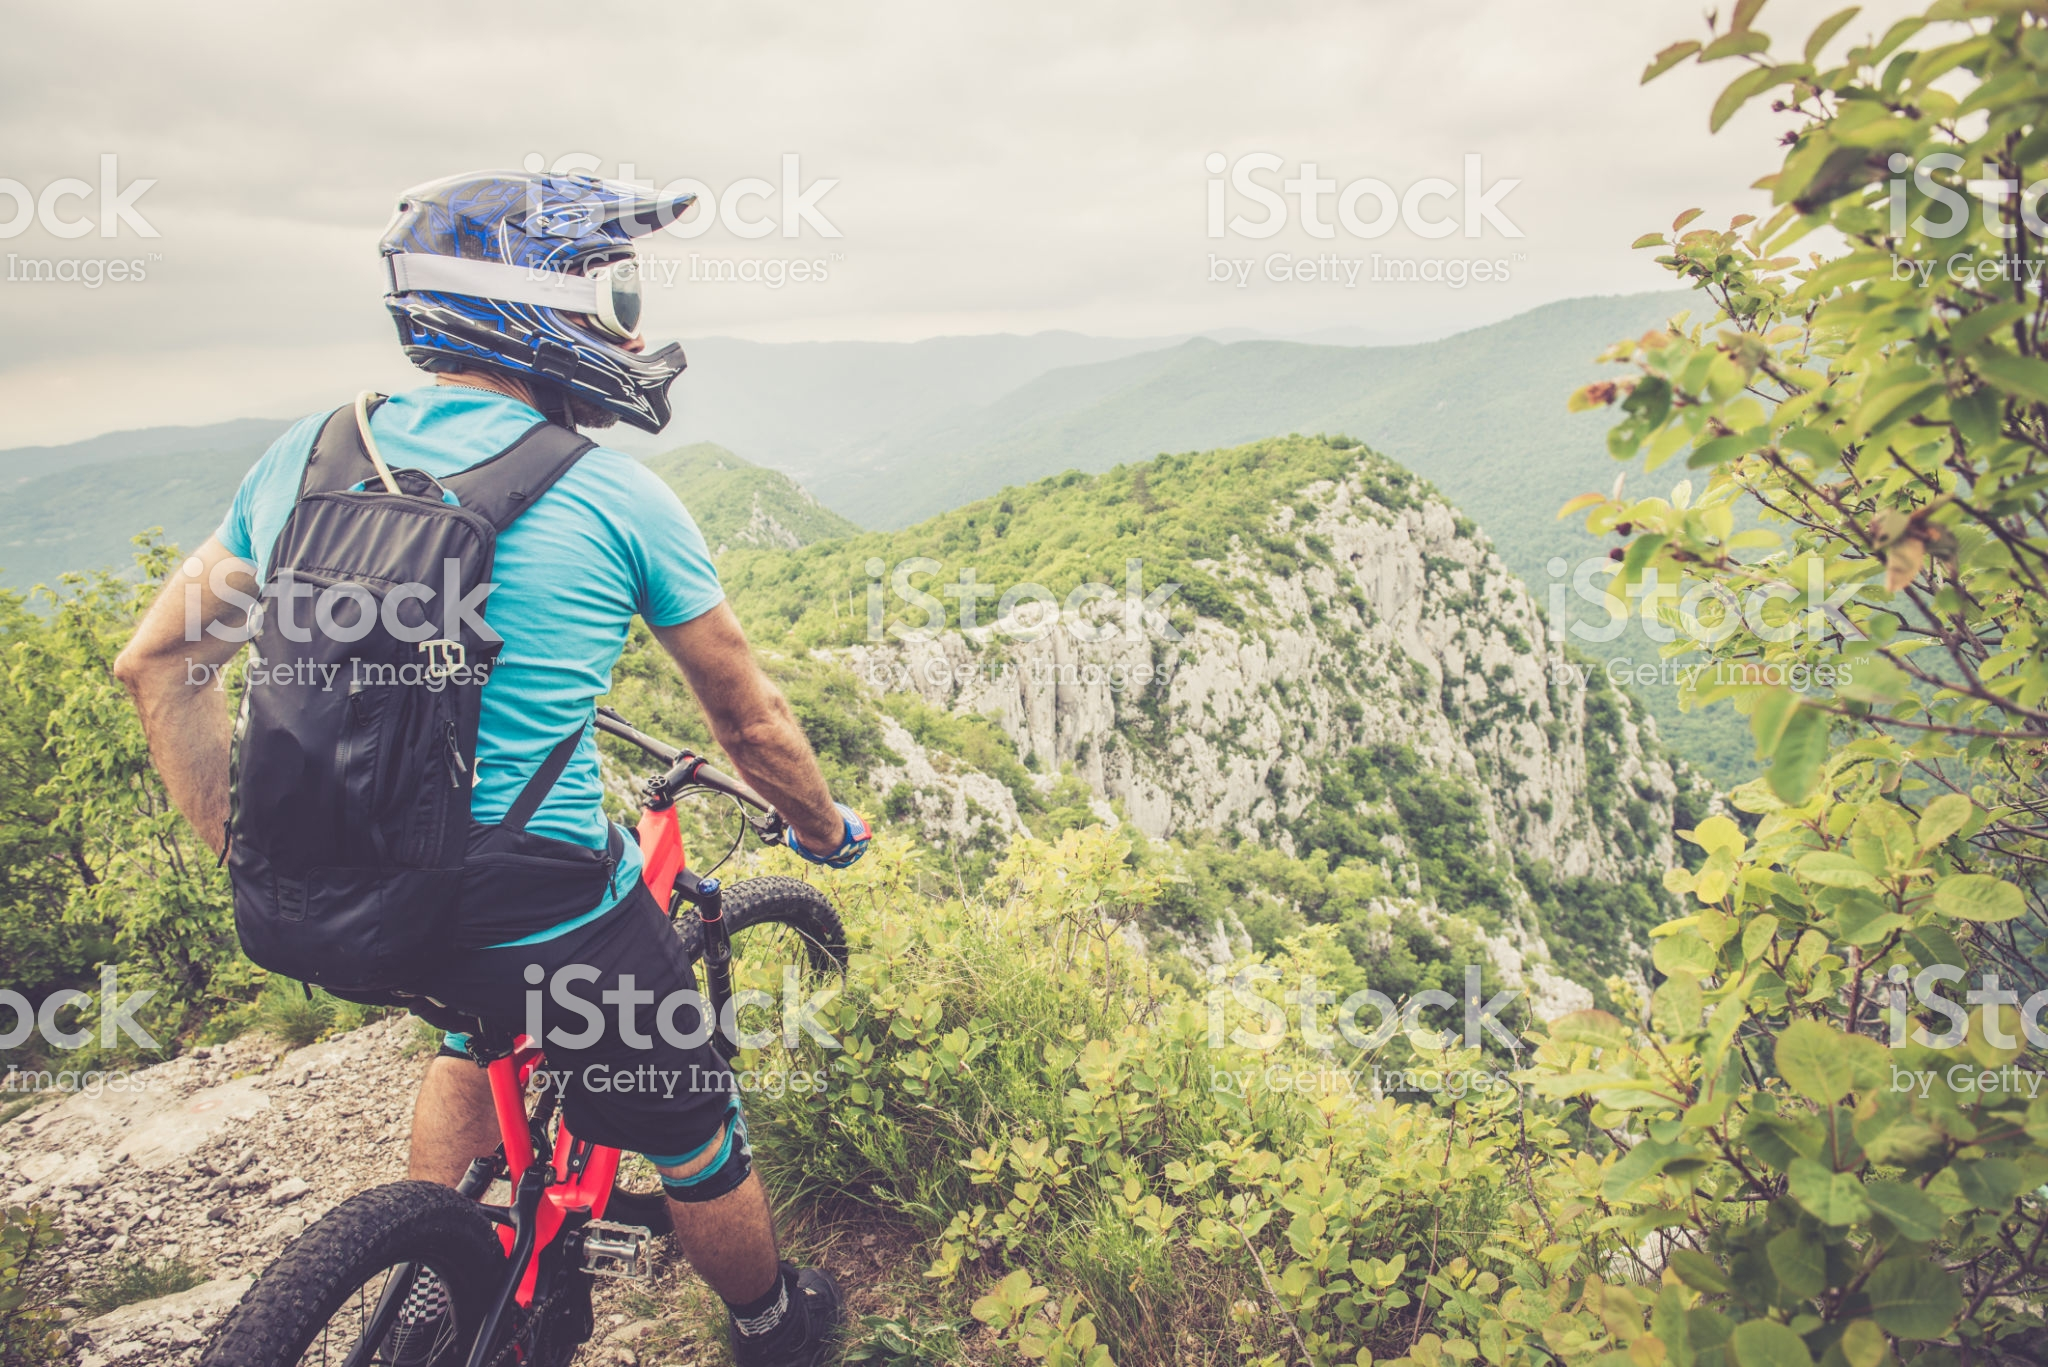helmet: (380, 157, 740, 432)
